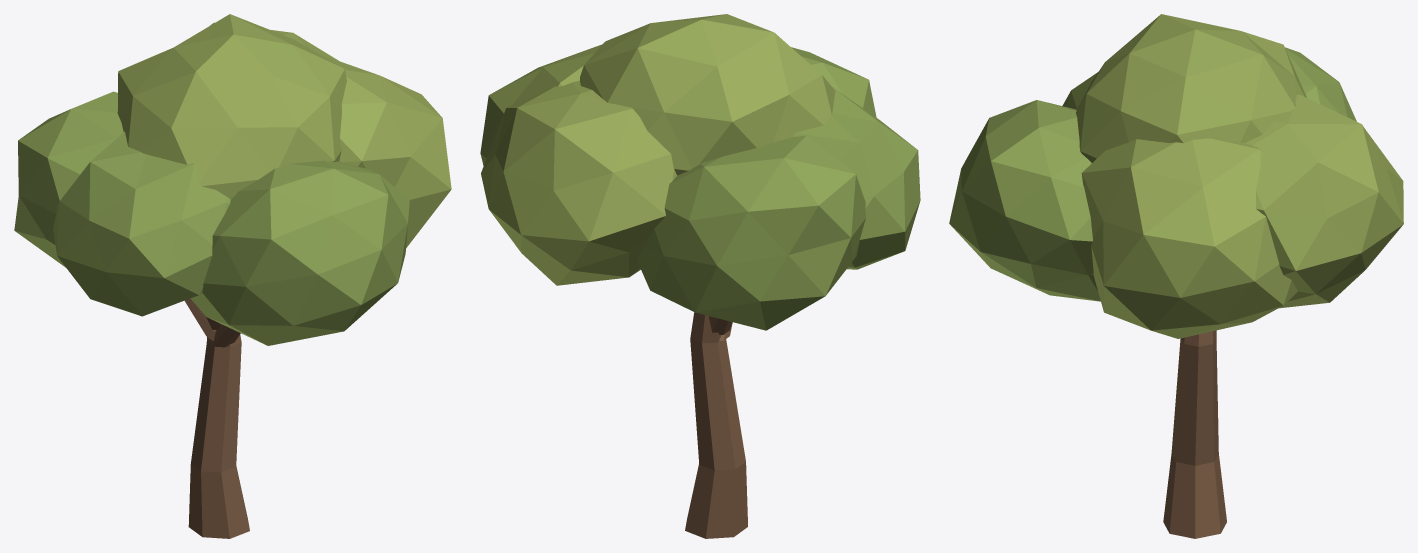
The model's file is Oak_Small.fbx.
3 views of the same model, side by side, from view 1: azimuth 30°, elevation 25°; view 2: azimuth 150°, elevation 25°; view 3: azimuth 270°, elevation 25° (orthographic). The views are drawn at different scales.
Parts seen in each view (by area): view 1: Oak_Small; view 2: Oak_Small; view 3: Oak_Small.
Part boxes in pixels (bbox=[...]): Oak_Small: bbox=[14, 14, 451, 538]; Oak_Small: bbox=[480, 14, 920, 538]; Oak_Small: bbox=[949, 14, 1403, 538].
Bounding box in the file's own units: 272 × 324 × 266.
